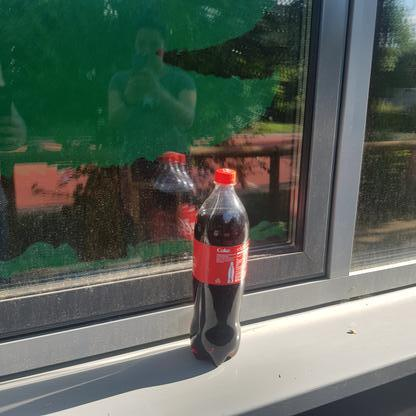coca-cola: (189, 167, 251, 369)
